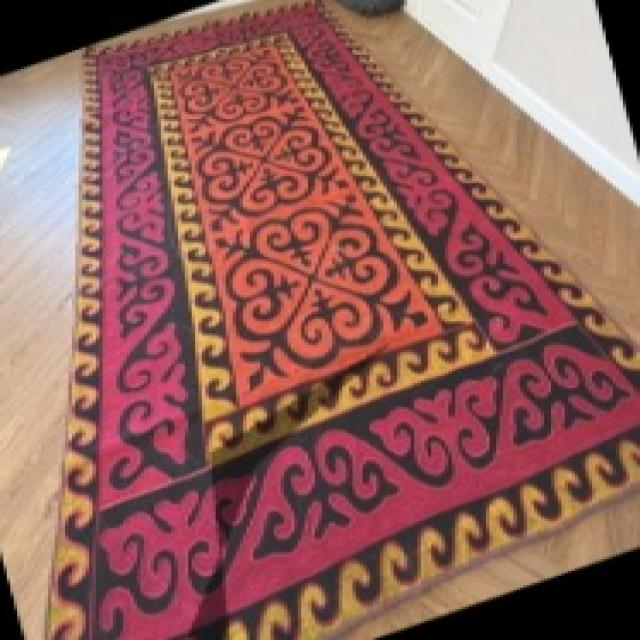Unity: (209, 190, 435, 396), (182, 103, 355, 232), (167, 50, 304, 135)
